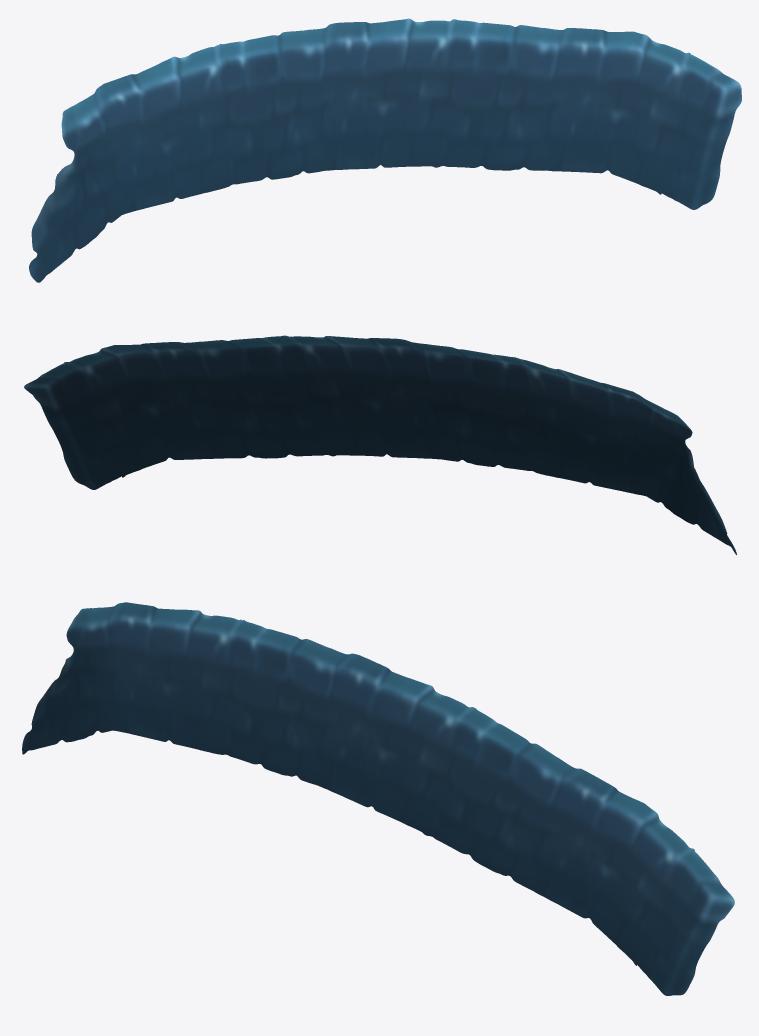
File: Dark Forest Wall BG2.FBX
3 views of the same model, one above another, from view 1: azimuth 30°, elevation 25°; view 2: azimuth 150°, elevation 25°; view 3: azimuth 330°, elevation 25° (orthographic). The views are drawn at different scales.
Parts seen in each view (by area): view 1: Wall BG2 Part 4; view 2: Wall BG2 Part 4; view 3: Wall BG2 Part 4.
Boxes of the visible parts, x1,y1,x2,y2 form: Wall BG2 Part 4: [29, 18, 741, 282]; Wall BG2 Part 4: [24, 335, 736, 554]; Wall BG2 Part 4: [22, 602, 734, 995].
Bounding box in the file's own units: 1054 × 74.29 × 391.
